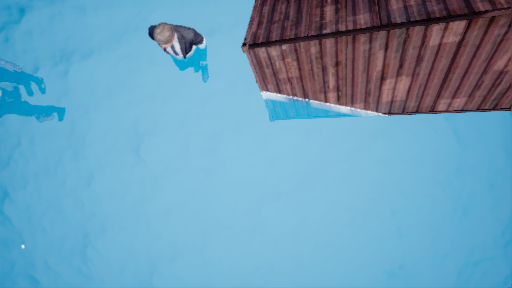person: (141, 22, 217, 77)
